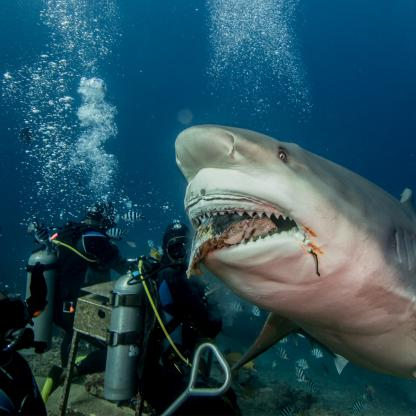bulldog-shark: (179, 123, 415, 393)
